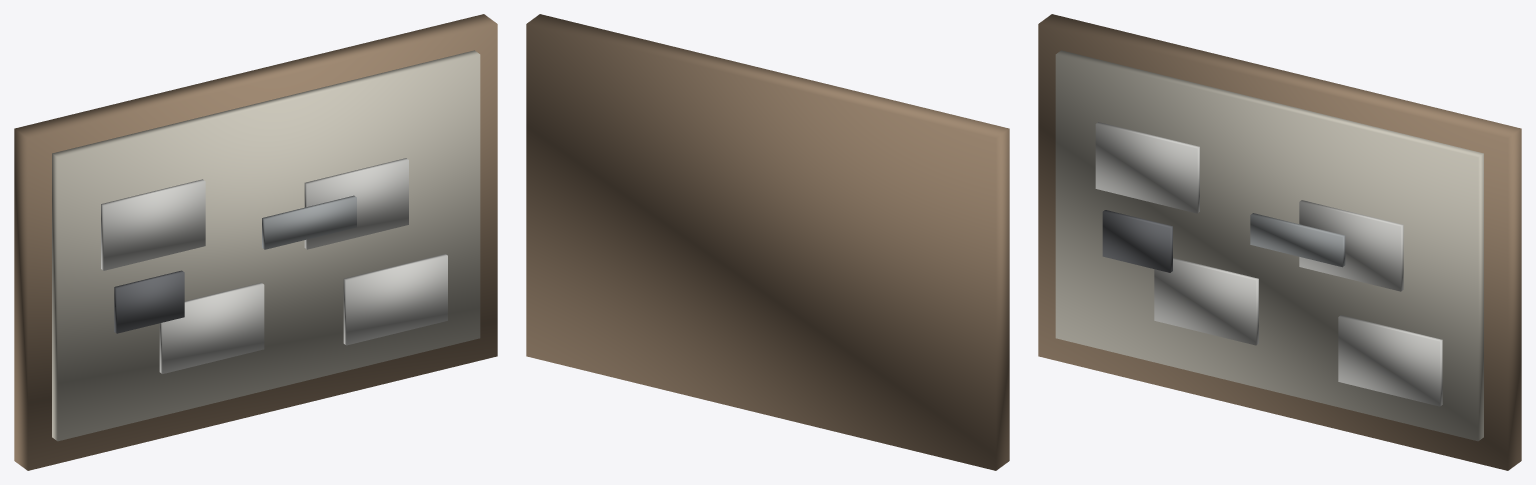
Rendered from whiteboard__weathered.glb.
3 renders of one model, left to right at view 1: azimuth 30°, elevation 25°; view 2: azimuth 150°, elevation 25°; view 3: azimuth 330°, elevation 25°, orthographic.
Parts seen in each view (by area): view 1: world; view 2: world; view 3: world.
Boxes of the visible parts, left/top/right/bottom form: world: left=14, top=14, right=497, bottom=470; world: left=526, top=14, right=1009, bottom=470; world: left=1038, top=14, right=1521, bottom=470.
Bounding box in the file's own units: 1.2 × 0.8118 × 0.115.
